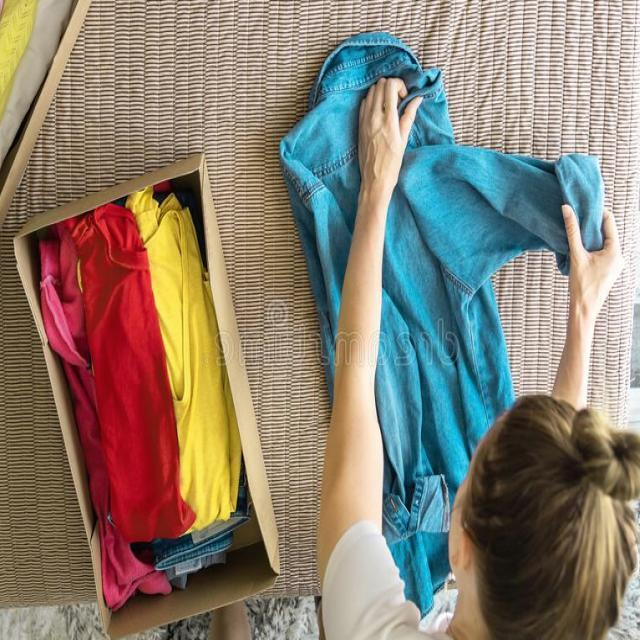clothes: (390, 147, 596, 443), (90, 207, 196, 546), (286, 47, 405, 276)
